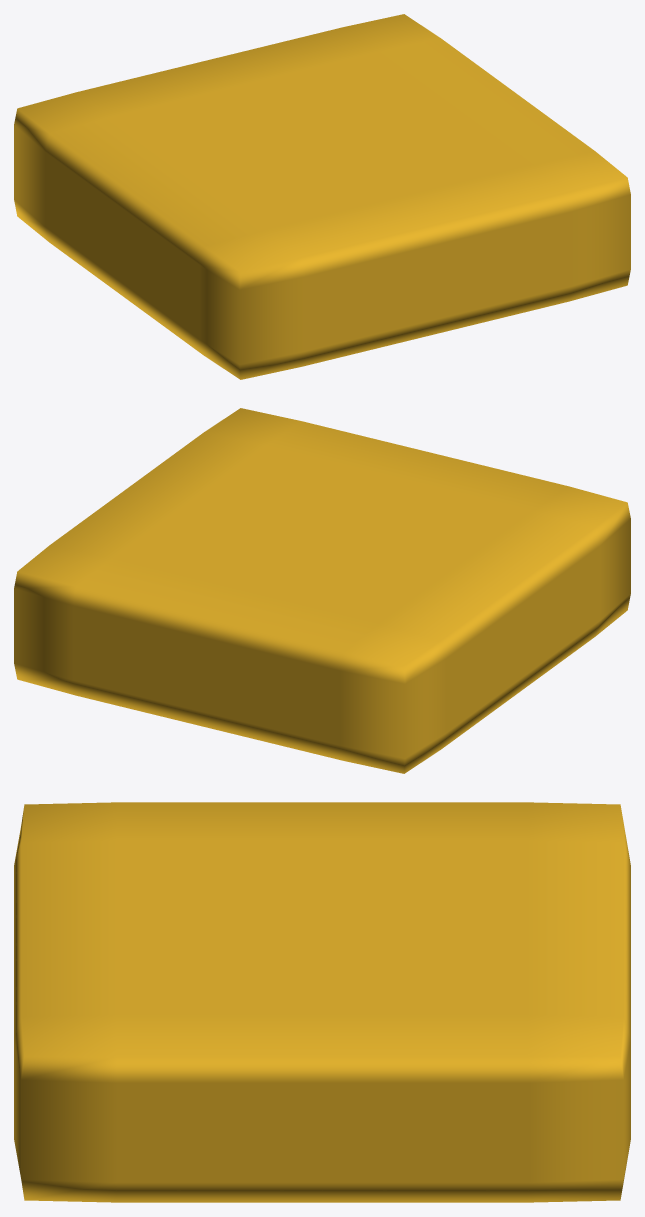
The model's file is 200_support_arret_urgence.glb.
The picture shows the model from 3 angles, top to bottom: view 1: azimuth 30°, elevation 25°; view 2: azimuth 150°, elevation 25°; view 3: azimuth 270°, elevation 25°; orthographic projection. The views are drawn at different scales.
Visible parts, largest first — view 1: AGV_support_arret_urgence; view 2: AGV_support_arret_urgence; view 3: AGV_support_arret_urgence.
Part boxes in pixels (left/top/right/bottom): AGV_support_arret_urgence: left=14, top=14, right=630, bottom=379; AGV_support_arret_urgence: left=14, top=408, right=630, bottom=773; AGV_support_arret_urgence: left=14, top=802, right=630, bottom=1202.
Size of the model in its own units: 0.075 by 0.02 by 0.075.
